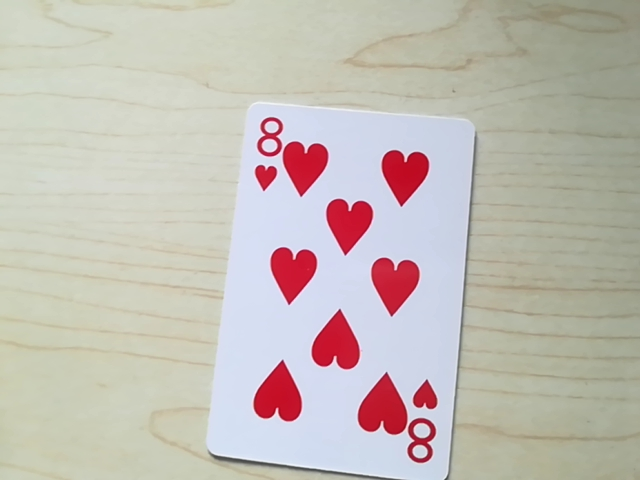hx 8: (408, 378, 442, 465), (253, 109, 281, 197)
